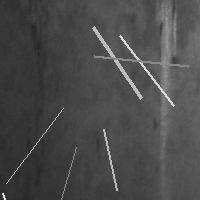scratches: (1, 103, 68, 188), (115, 31, 179, 111), (88, 22, 146, 103), (154, 1, 177, 150), (89, 51, 193, 71), (99, 124, 122, 195), (54, 142, 81, 200), (0, 188, 30, 200)
